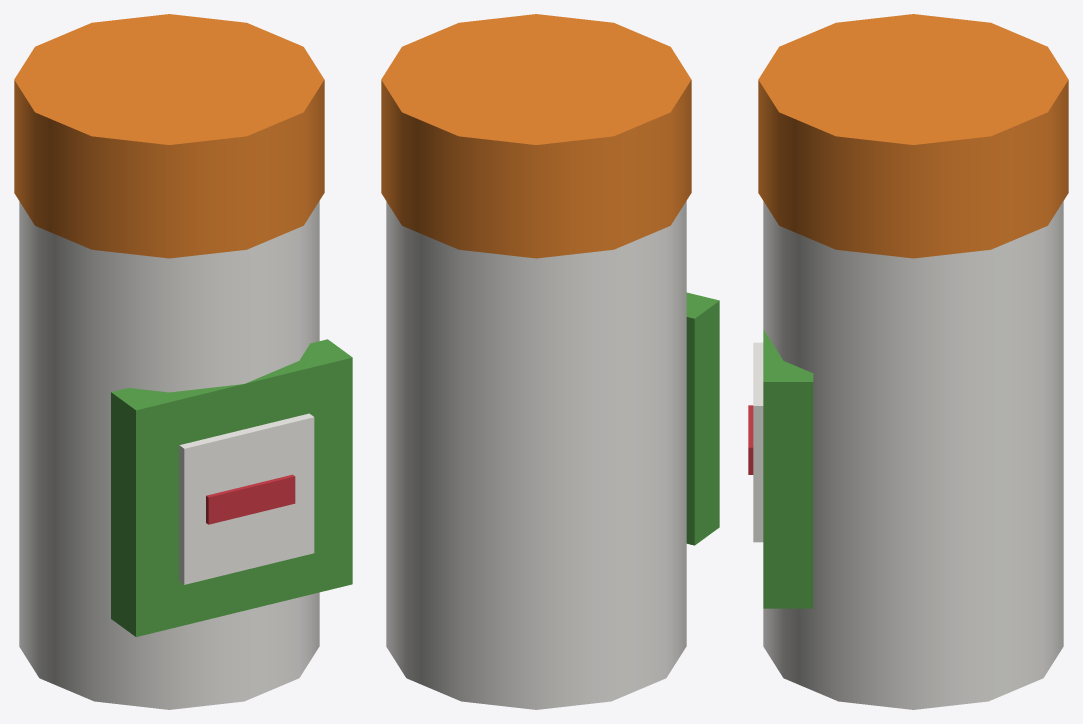
File: medicine_bottle.glb
3 views of the same model, side by side, from view 1: azimuth 30°, elevation 25°; view 2: azimuth 150°, elevation 25°; view 3: azimuth 270°, elevation 25° (orthographic).
Visible parts, largest first — view 1: root; view 2: root; view 3: root.
Boxes of the visible parts, x1,y1,x2,y2 form: root: [14, 14, 352, 709]; root: [381, 14, 719, 709]; root: [748, 14, 1068, 709].
Bounding box in the file's own units: 0.124 × 0.25 × 0.128.
